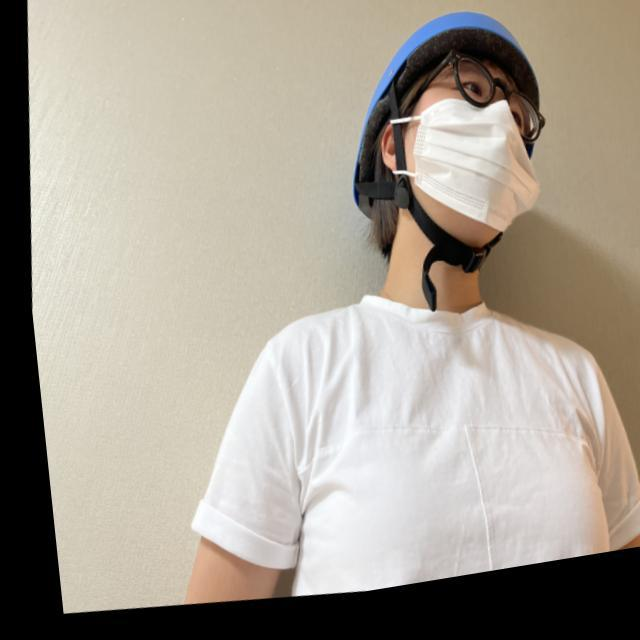Helmet: (348, 15, 550, 275)
